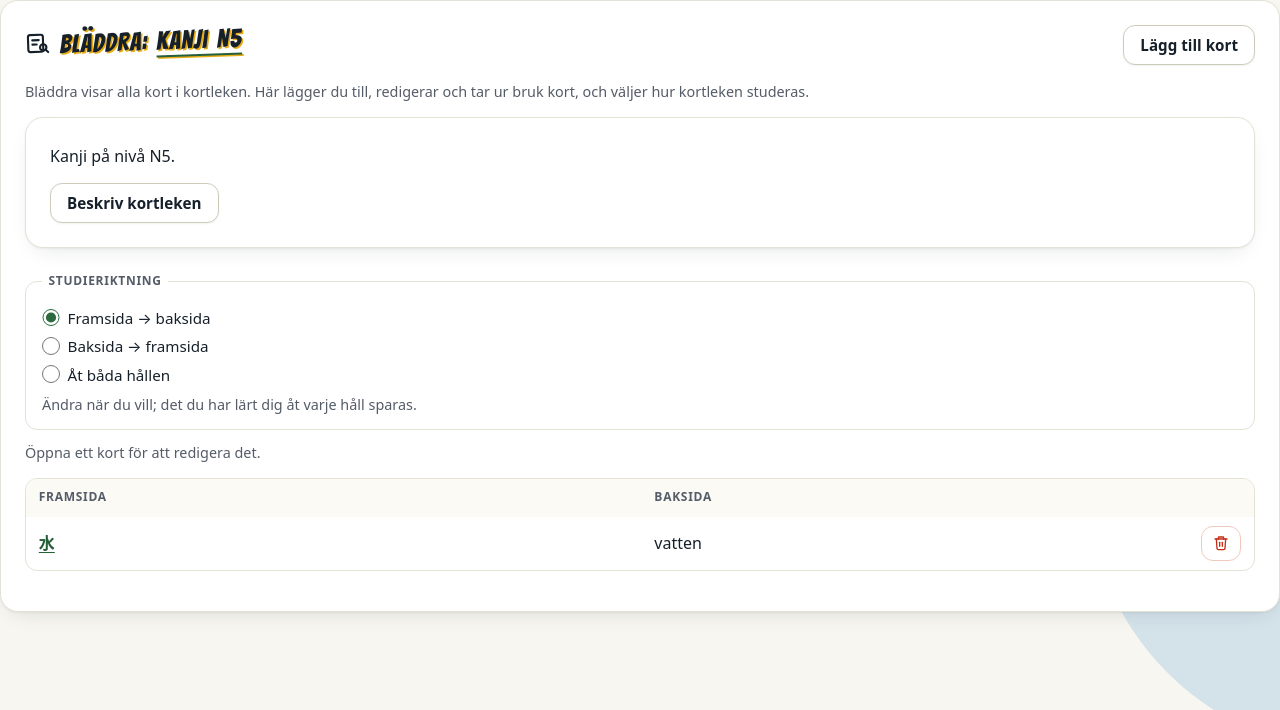
Scenario: BrowserScreen in Swedish › marks deck and card text in another language than Swedish with its language
Expected: the cell with class "back-cell" reads "vatten", [654,532,702,554]
Click the button "Beskriv kortleken".
click(134, 203)  # box [50,183,218,223]
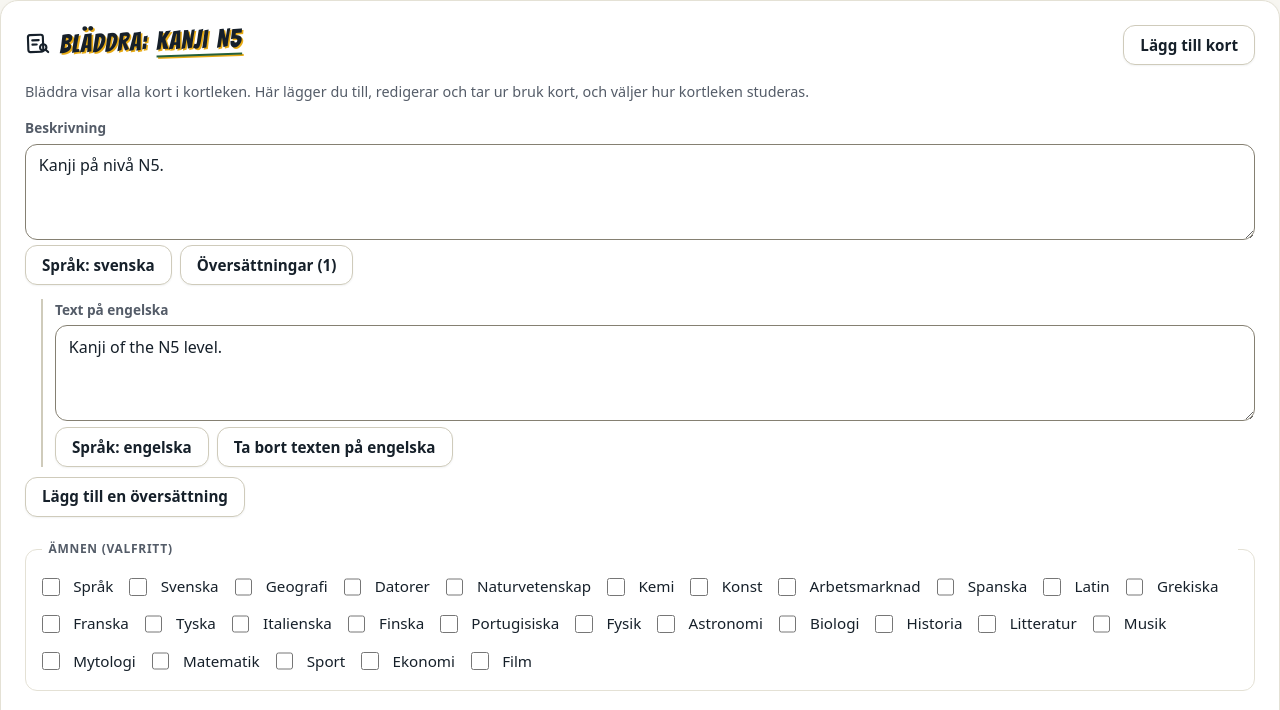
Expected: the text box labelled "Beskrivning" holds "Kanji på nivå N5.", [25,144,1255,240]
Expected: the text box labelled "Text på engelska" holds "Kanji of the N5 level.", [55,325,1255,421]
